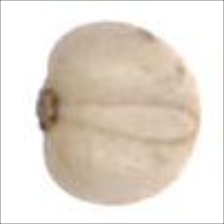L5: (58, 99, 200, 147), (33, 81, 67, 136), (184, 90, 209, 155)
L6: (33, 20, 204, 208)
